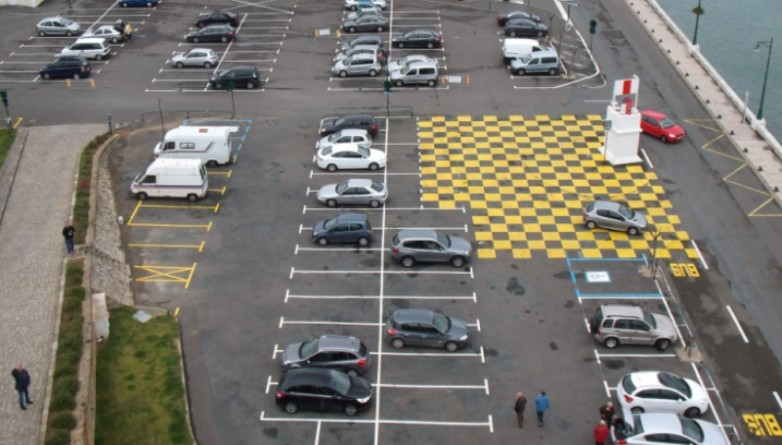Car: (275, 368, 373, 416), (611, 406, 729, 445), (616, 370, 710, 418), (589, 304, 677, 351), (281, 335, 371, 377), (385, 309, 470, 352), (130, 157, 209, 202), (153, 126, 239, 167), (391, 229, 472, 268), (584, 200, 648, 236), (314, 143, 386, 172), (316, 178, 388, 207), (312, 213, 373, 247), (641, 110, 686, 143), (318, 113, 379, 137), (39, 54, 91, 80), (501, 38, 552, 64), (508, 50, 561, 75), (389, 61, 439, 87), (332, 52, 382, 78), (209, 66, 261, 90), (60, 38, 111, 60), (316, 128, 372, 148), (332, 45, 386, 65), (80, 19, 124, 43), (392, 28, 442, 49), (170, 48, 219, 68), (185, 24, 236, 43), (36, 16, 82, 36), (504, 18, 549, 38), (388, 54, 438, 72), (342, 15, 389, 33), (195, 12, 240, 28), (497, 10, 541, 26), (342, 35, 383, 50), (345, 7, 382, 20), (344, 0, 387, 11), (118, 0, 158, 8), (357, 0, 375, 8)
